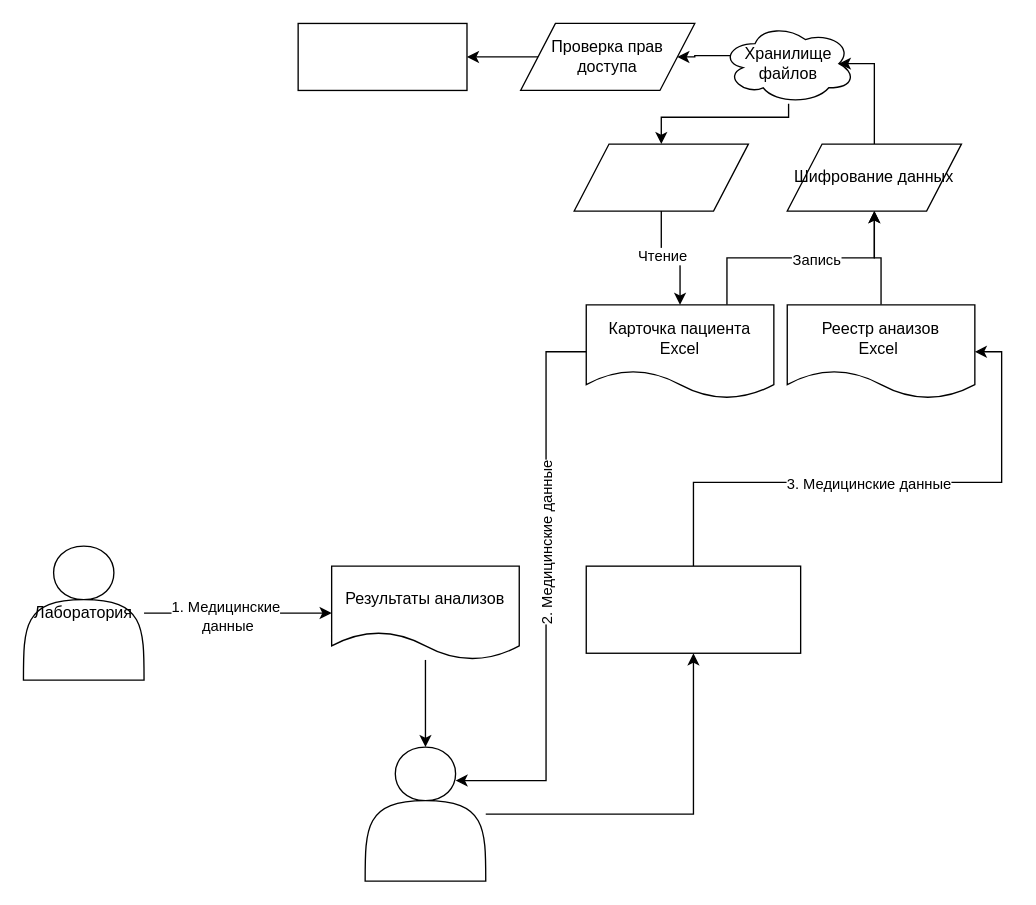
Some shapes in this 1036 by 905 pixel diagram are drawn without their labels. Each missing label, with the centre of its shape:
Active Directory: [382,56]
Администратор: [425,813]
Идентификация и обновление данных в карточке пациента и реестре анализов: [693,609]
Расшифровка данных: [660,177]
